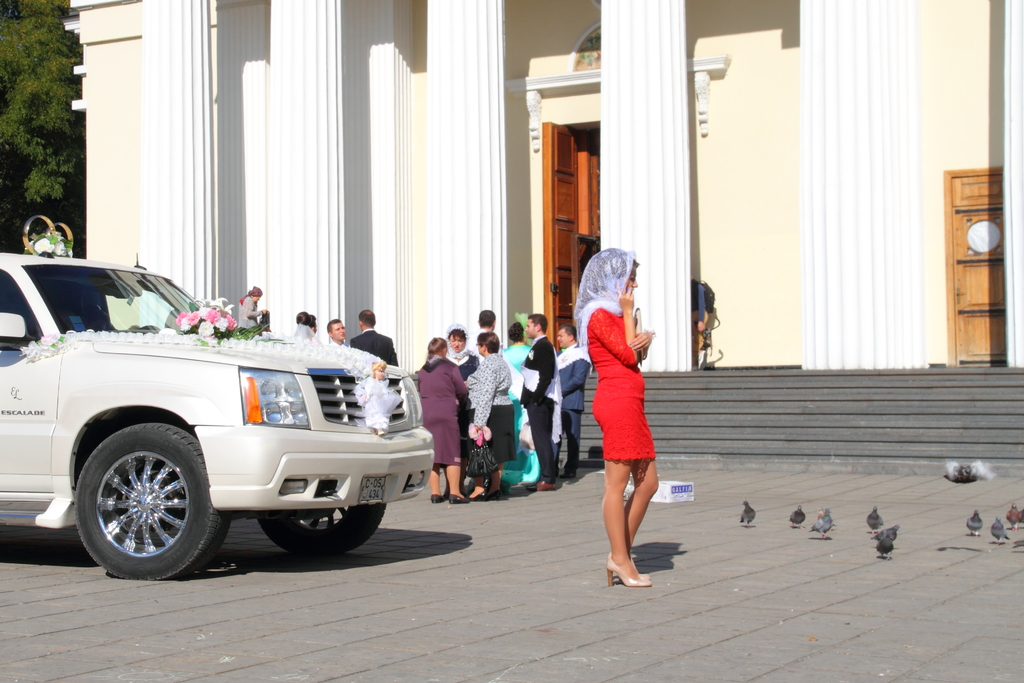Car: (5, 285, 441, 576)
